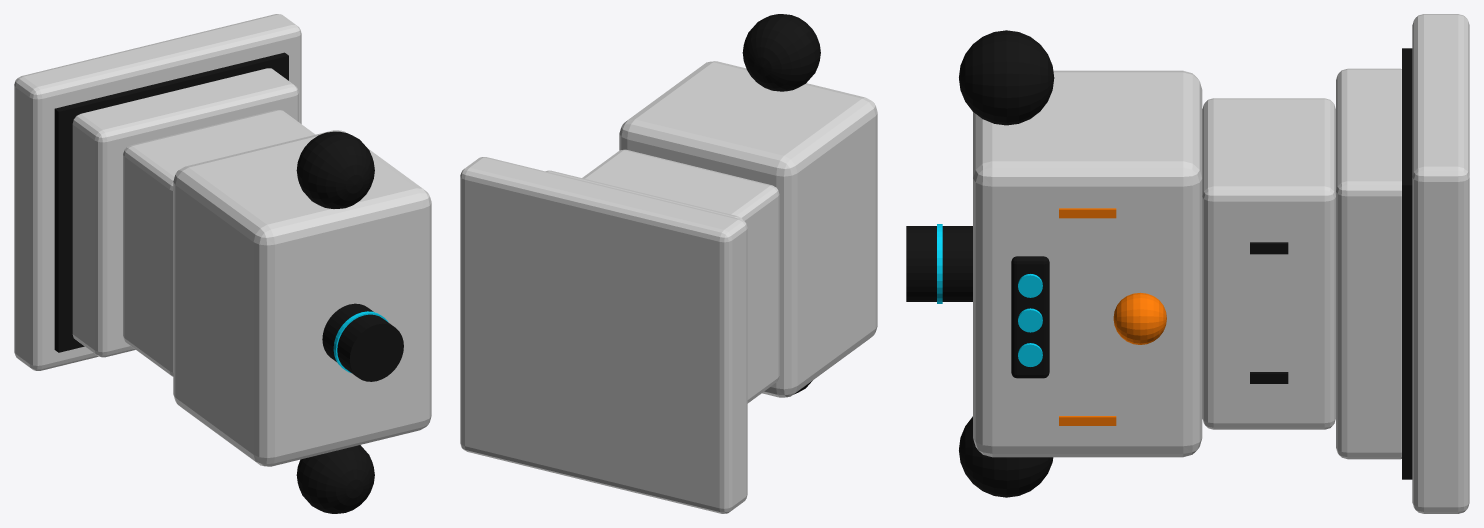
The model's file is torso_link_visual.obj.
3 views of the same model, side by side, from view 1: azimuth 30°, elevation 25°; view 2: azimuth 150°, elevation 25°; view 3: azimuth 270°, elevation 25° (orthographic). The views are drawn at different scales.
Bounding box in the file's own units: 0.4 × 0.53 × 0.59.
